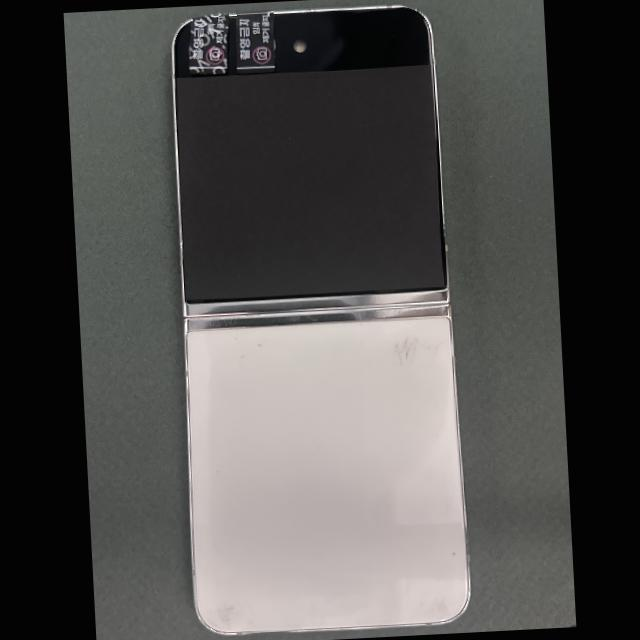phone: (173, 7, 469, 633)
sticker: (188, 13, 229, 74), (237, 10, 275, 74)
